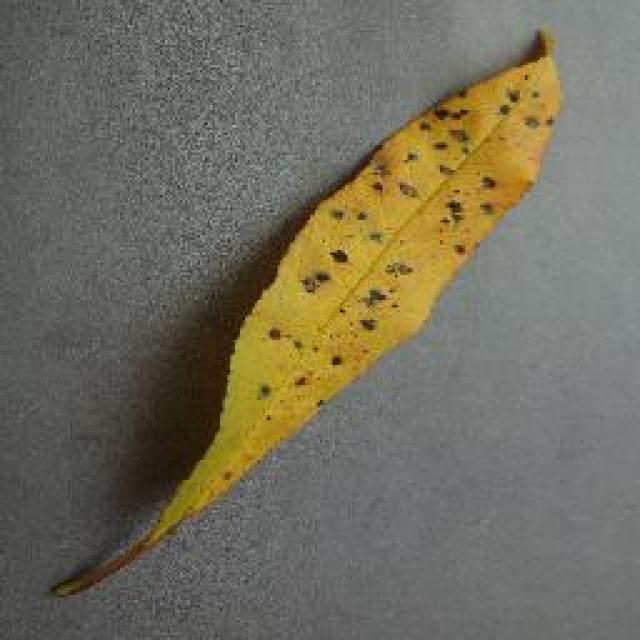Peach_Bacterial_Spot: (258, 99, 508, 414)
